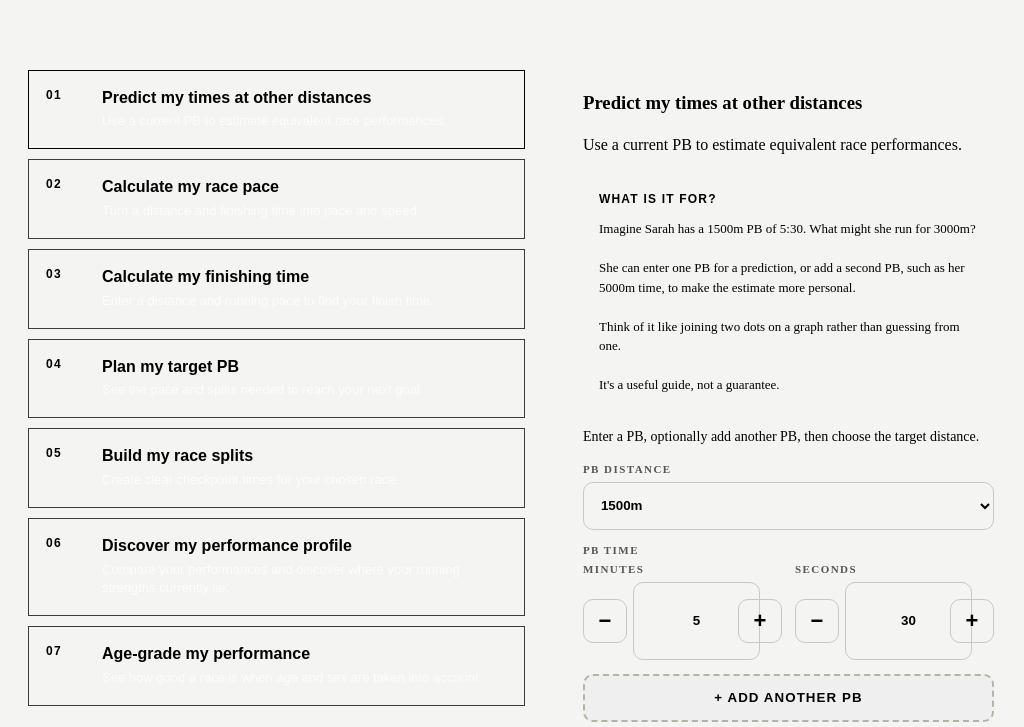
Test case: Tool 04 target PB › shows approved Omar purpose copy
The image size is (1024, 727).
(page scrolled)
What coordinates should you click on to do the following:
click the radio button that starts with "Plan my target PB"
I would click on:
 (170, 366)
Its box is x1=28 y1=338 x2=525 y2=418.
(page scrolled)
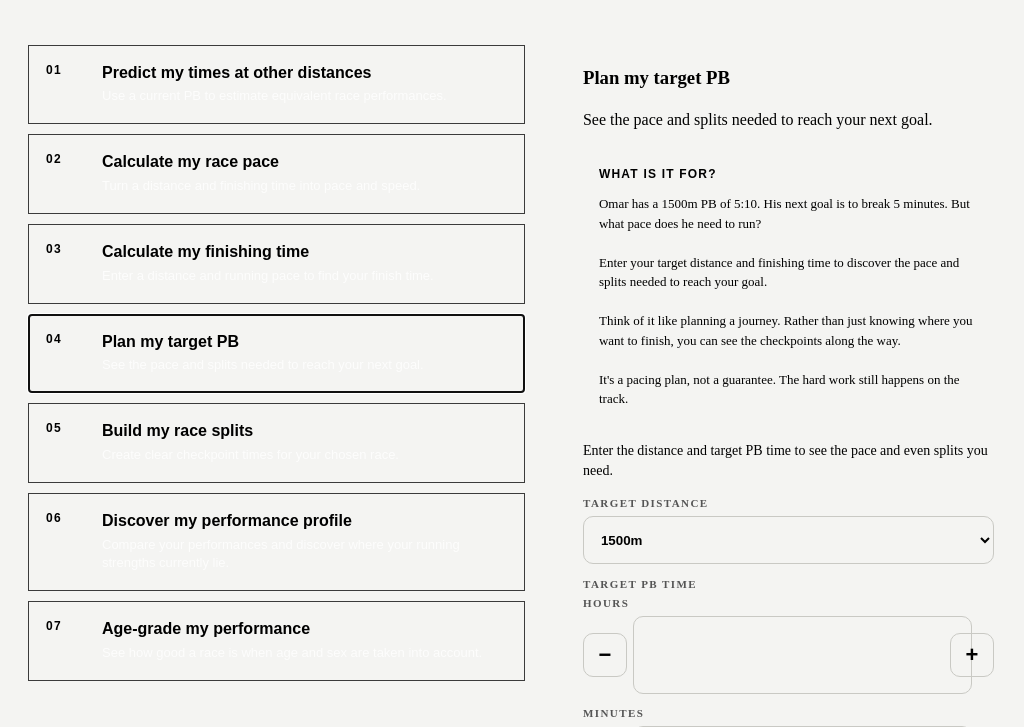
Expected: the text "pacing plan, not a guarantee" is shown, x1=599 y1=196 x2=973 y2=406
